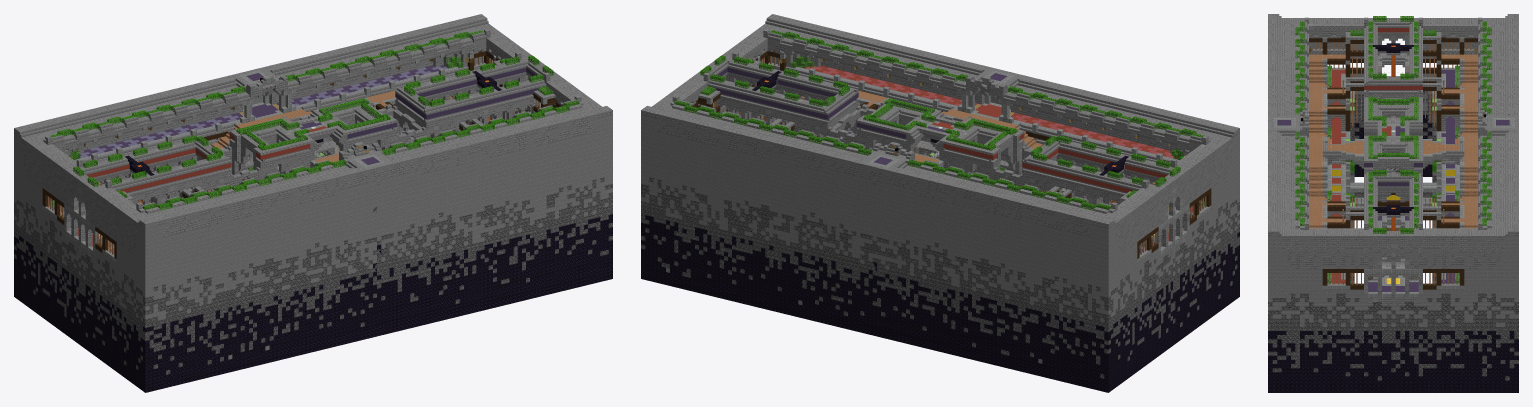
The model's file is minecraft.obj.
3 views of the same model, side by side, from view 1: azimuth 30°, elevation 25°; view 2: azimuth 150°, elevation 25°; view 3: azimuth 270°, elevation 25° (orthographic). The views are drawn at different scales.
Size of the model in its own units: 113 by 41 by 55.
